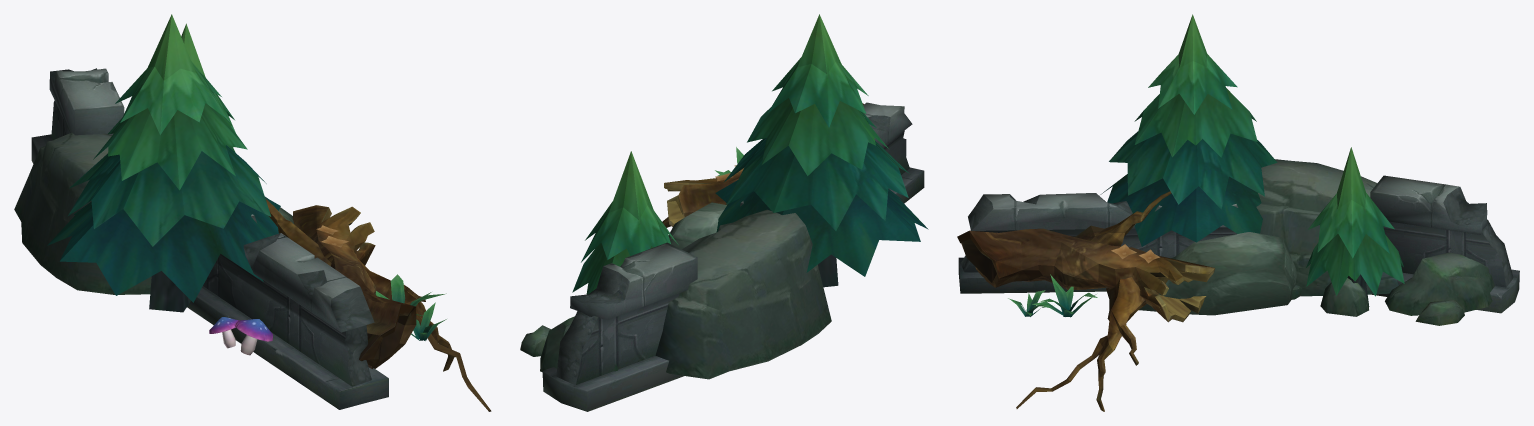
File: 1Moba_zu02.FBX
3 views of the same model, side by side, from view 1: azimuth 30°, elevation 25°; view 2: azimuth 150°, elevation 25°; view 3: azimuth 270°, elevation 25° (orthographic). The views are drawn at different scales.
Parts seen in each view (by area): view 1: 1Moba_zu02shu, 1Moba_zu02shi; view 2: 1Moba_zu02shi, 1Moba_zu02shu; view 3: 1Moba_zu02shu, 1Moba_zu02shi.
Part boxes in pixels (box(x1,y1,x2,y2)): 1Moba_zu02shu: box(47, 14, 491, 411); 1Moba_zu02shi: box(14, 68, 446, 409); 1Moba_zu02shi: box(520, 102, 924, 411); 1Moba_zu02shu: box(572, 14, 928, 294); 1Moba_zu02shu: box(957, 14, 1404, 411); 1Moba_zu02shi: box(958, 159, 1519, 325).
Size of the model in its own units: 148 by 157 by 258.
Materials: 2 (2 with a texture image).
